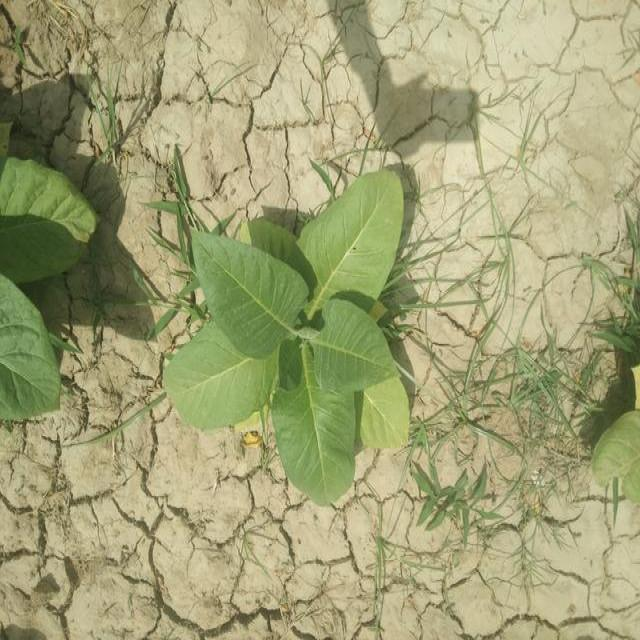crop: (186, 176, 414, 479), (4, 164, 95, 411)
